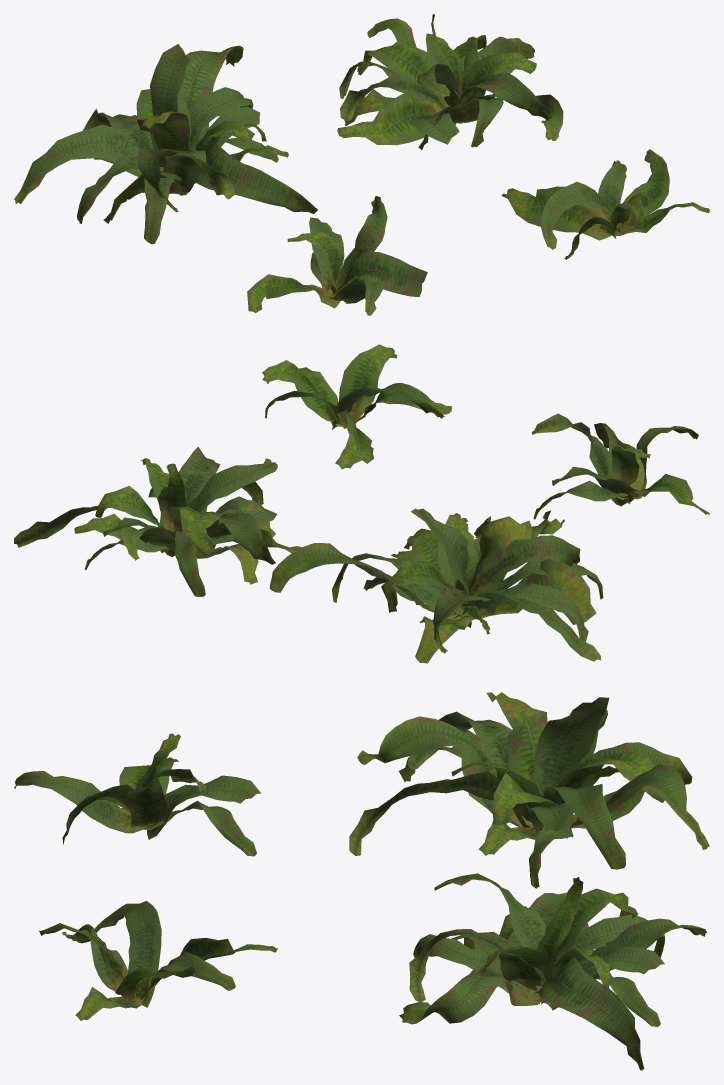
The model's file is fern_02_draco.glb.
3 renders of one model, top to bottom at view 1: azimuth 30°, elevation 25°; view 2: azimuth 150°, elevation 25°; view 3: azimuth 270°, elevation 25°, orthographic. The views are drawn at different scales.
Visible parts, largest first — view 1: fern_02_b, fern_02_c, fern_02_d, fern_02_a; view 2: fern_02_b, fern_02_c, fern_02_d, fern_02_a; view 3: fern_02_b, fern_02_c, fern_02_a, fern_02_d.
Part boxes in pixels (box(x1,y1,x2,y2)): fern_02_b: box(14, 44, 317, 244); fern_02_c: box(337, 14, 563, 149); fern_02_d: box(501, 149, 709, 259); fern_02_a: box(247, 196, 427, 315); fern_02_b: box(269, 508, 603, 663); fern_02_c: box(14, 447, 301, 596); fern_02_d: box(262, 344, 451, 469); fern_02_a: box(531, 413, 709, 519); fern_02_b: box(349, 692, 709, 888); fern_02_c: box(399, 873, 707, 1070); fern_02_a: box(14, 733, 261, 856); fern_02_d: box(39, 901, 277, 1020).
Size of the model in its own units: 1.97 by 0.4279 by 1.72.
Materials: 1 (1 with a texture image).
